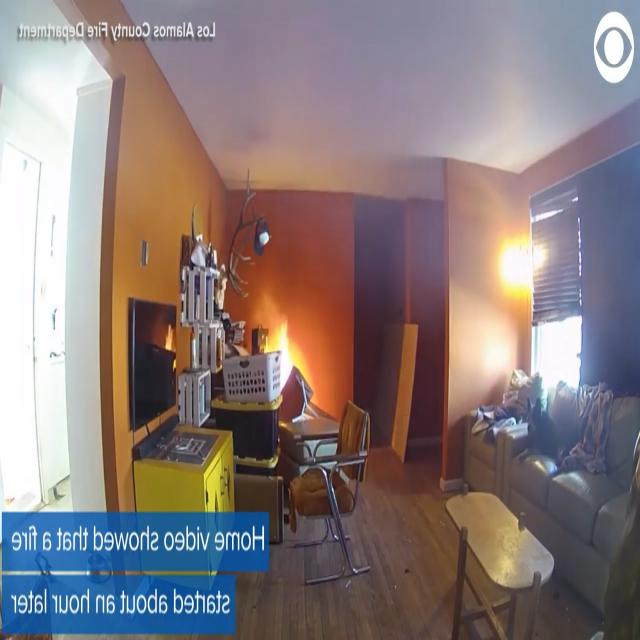fire: (266, 319, 296, 394)
